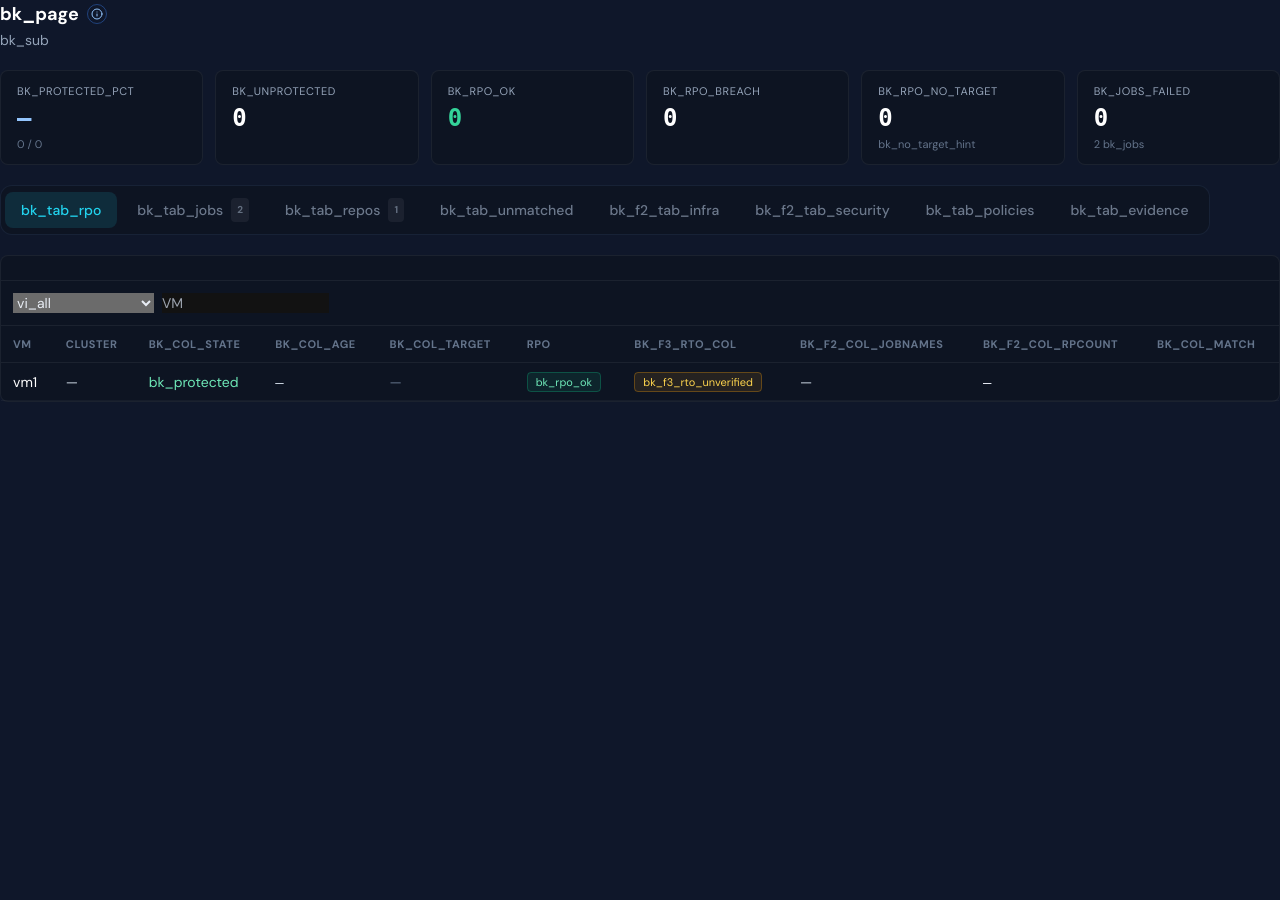
Scenario: F.2 Yedek sekmeleri › Güvenlik tab: şifreleme sayıları, değişmezlik ölçülemedi, Viewer-kapalı endpoint
Click the button "bk_f2_tab_security". click: (823, 210)
box: [739, 192, 906, 228]
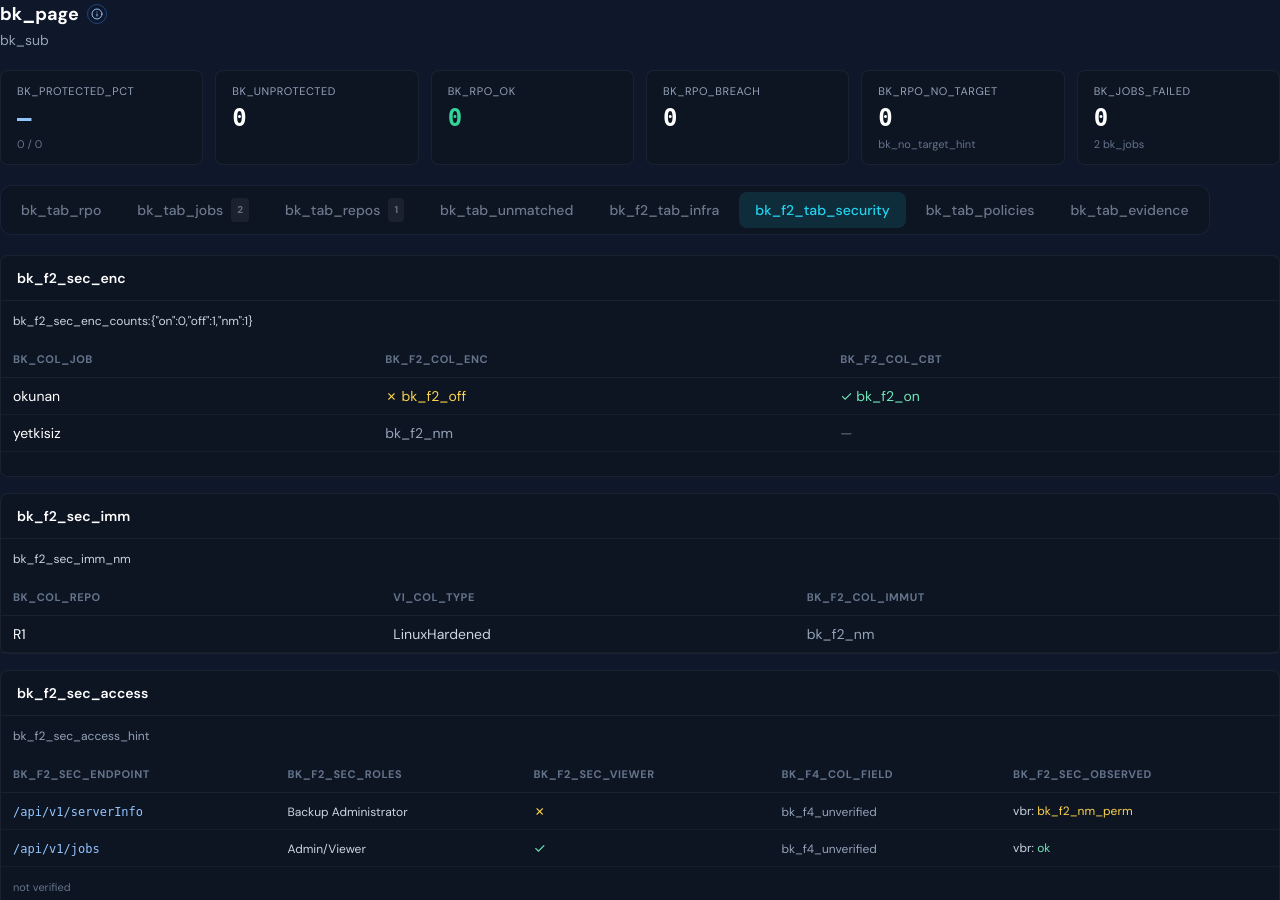
Expected: the text with test id "bk-sec-enc-counts" shows "\"nm\":1", [13, 313, 253, 329]
Expected: the text with test id "bk-sec-imm" reads "bk_f2_sec_imm_nm", [13, 551, 131, 567]
Expected: the link "/api/v1/serverInfo" is shown, [13, 805, 143, 819]
